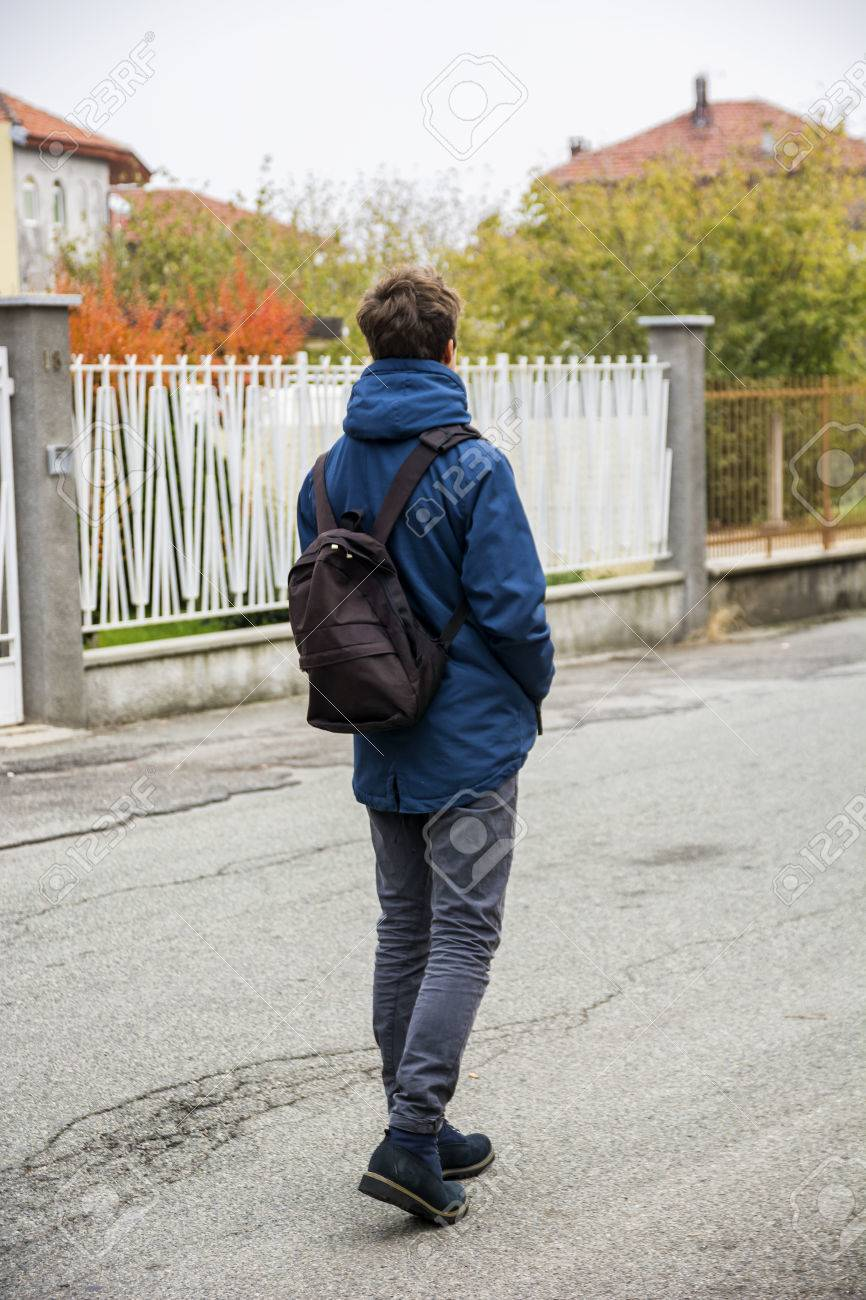person: (289, 267, 555, 1216)
